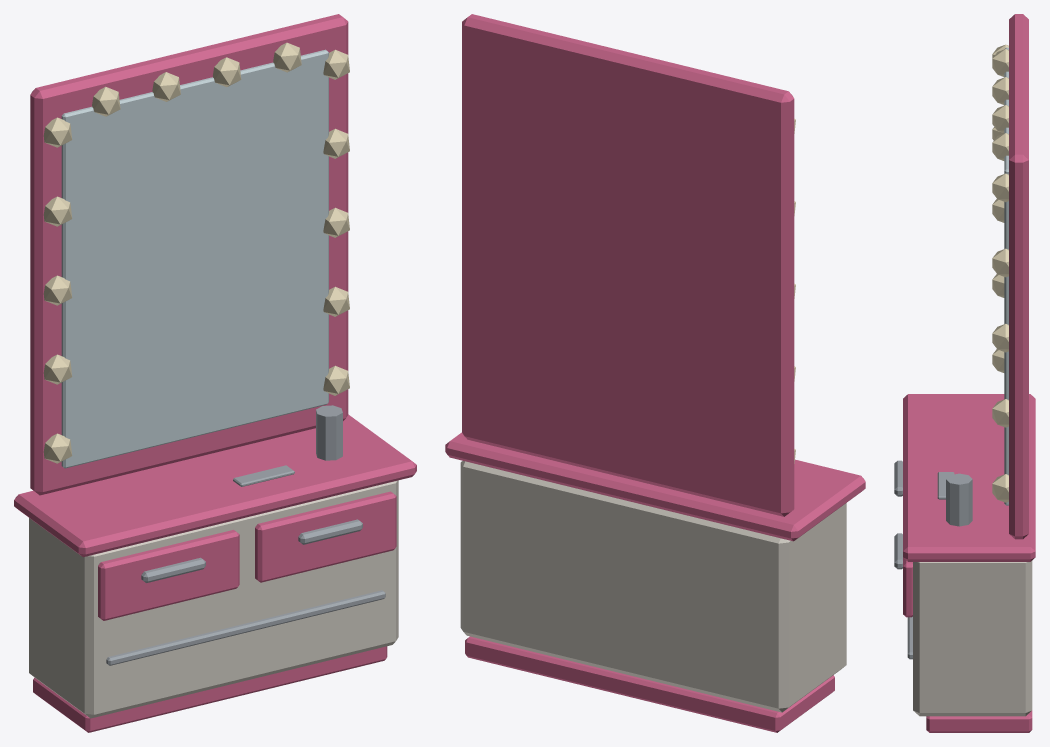
Rendered from styling-station.glb.
The picture shows the model from 3 angles, left to right: view 1: azimuth 30°, elevation 25°; view 2: azimuth 150°, elevation 25°; view 3: azimuth 270°, elevation 25°; orthographic projection. The views are drawn at different scales.
Visible parts, largest first — view 1: styling-station; view 2: styling-station; view 3: styling-station.
Boxes of the visible parts, x1,y1,x2,y2 form: styling-station: (14, 14, 416, 732); styling-station: (445, 14, 865, 732); styling-station: (894, 14, 1035, 732).
Bounding box in the file's own units: 5.6 × 9.65 × 2.13.
